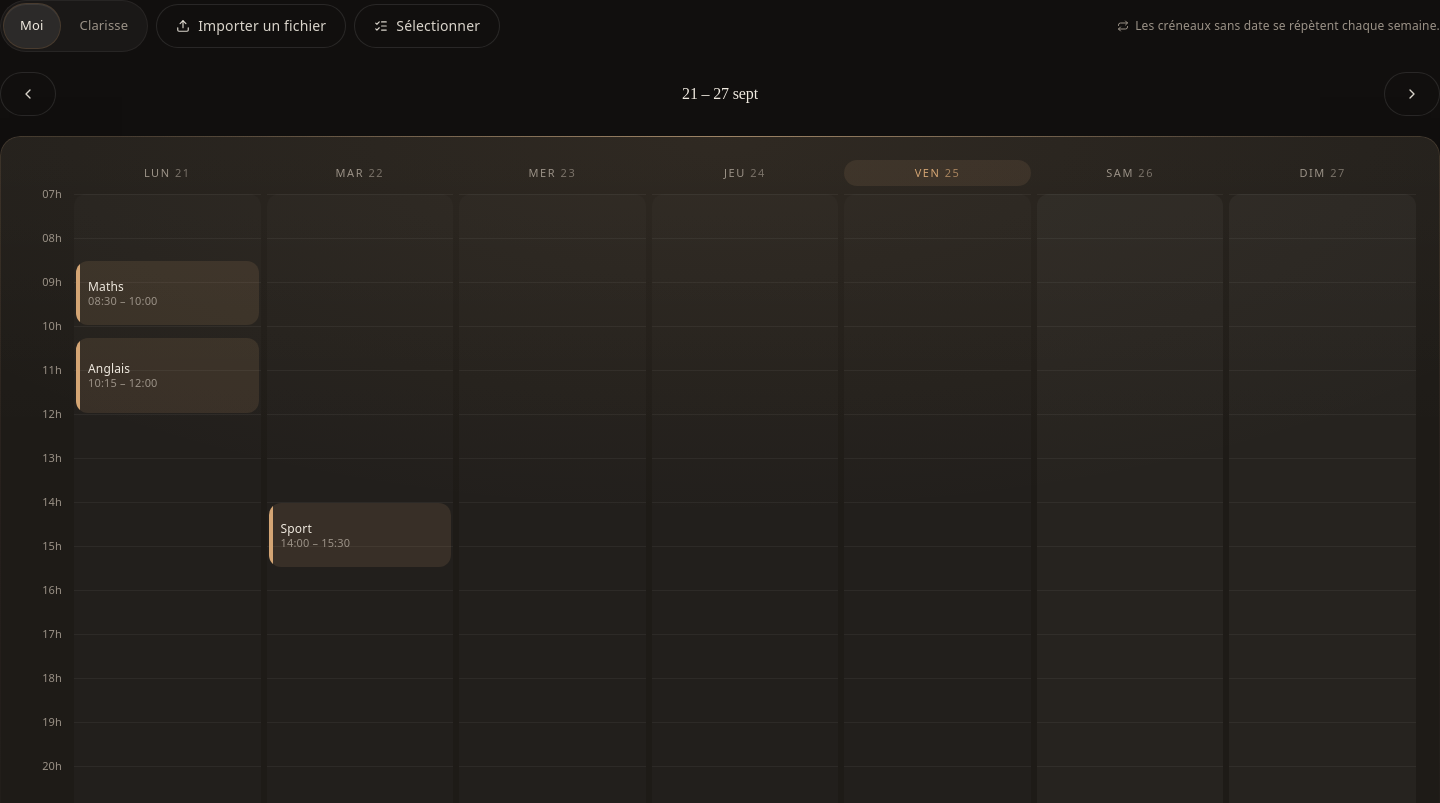
it: Emploi du temps — mode sélection et suppression multiple › décoche le jour entier au second geste
The width and height of the screenshot is (1440, 803).
Click the button "Sélectionner" at (427,26), box [354, 4, 500, 48]
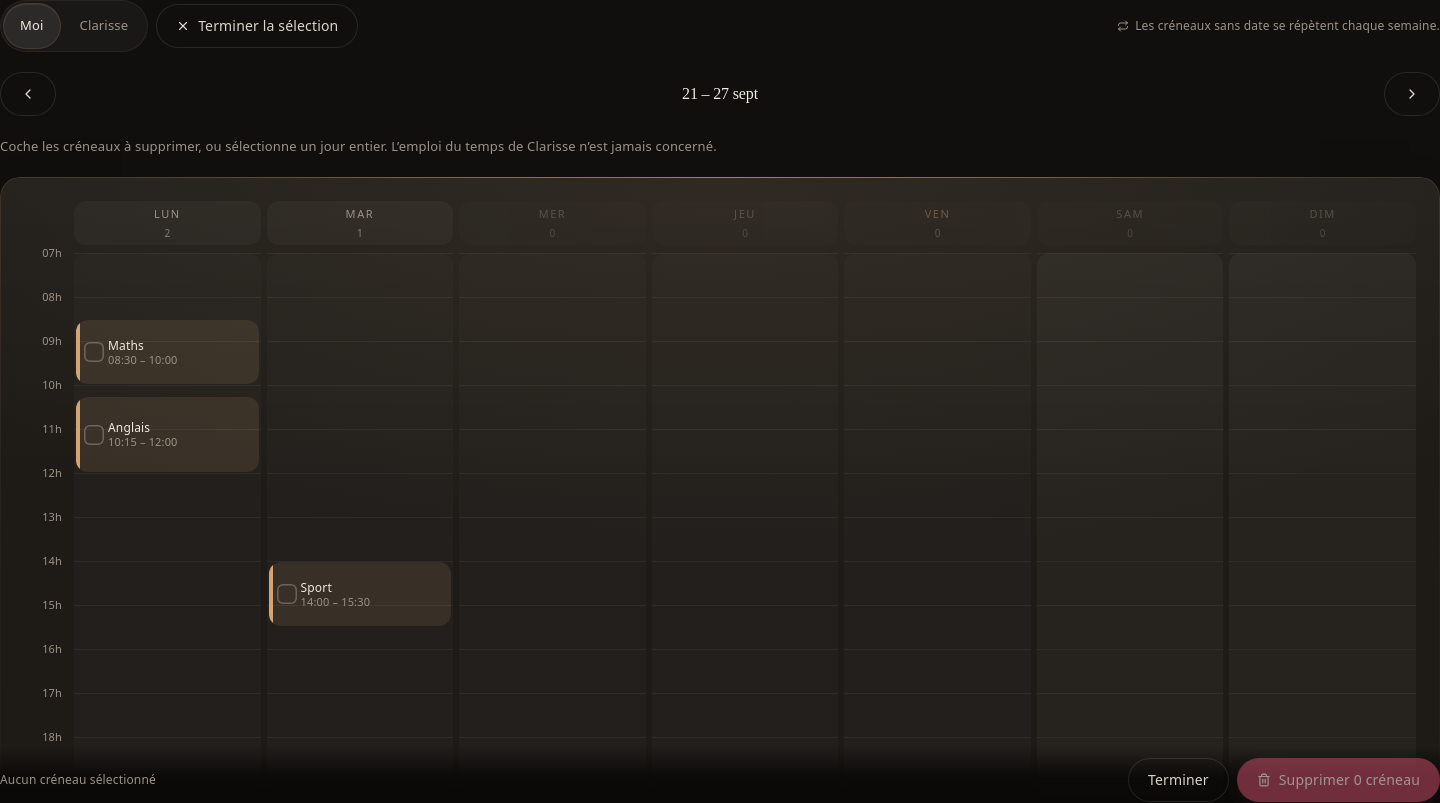
Click the button with aria-label "Tout sélectionner sur lundi" at (167,223), box [74, 201, 261, 245]
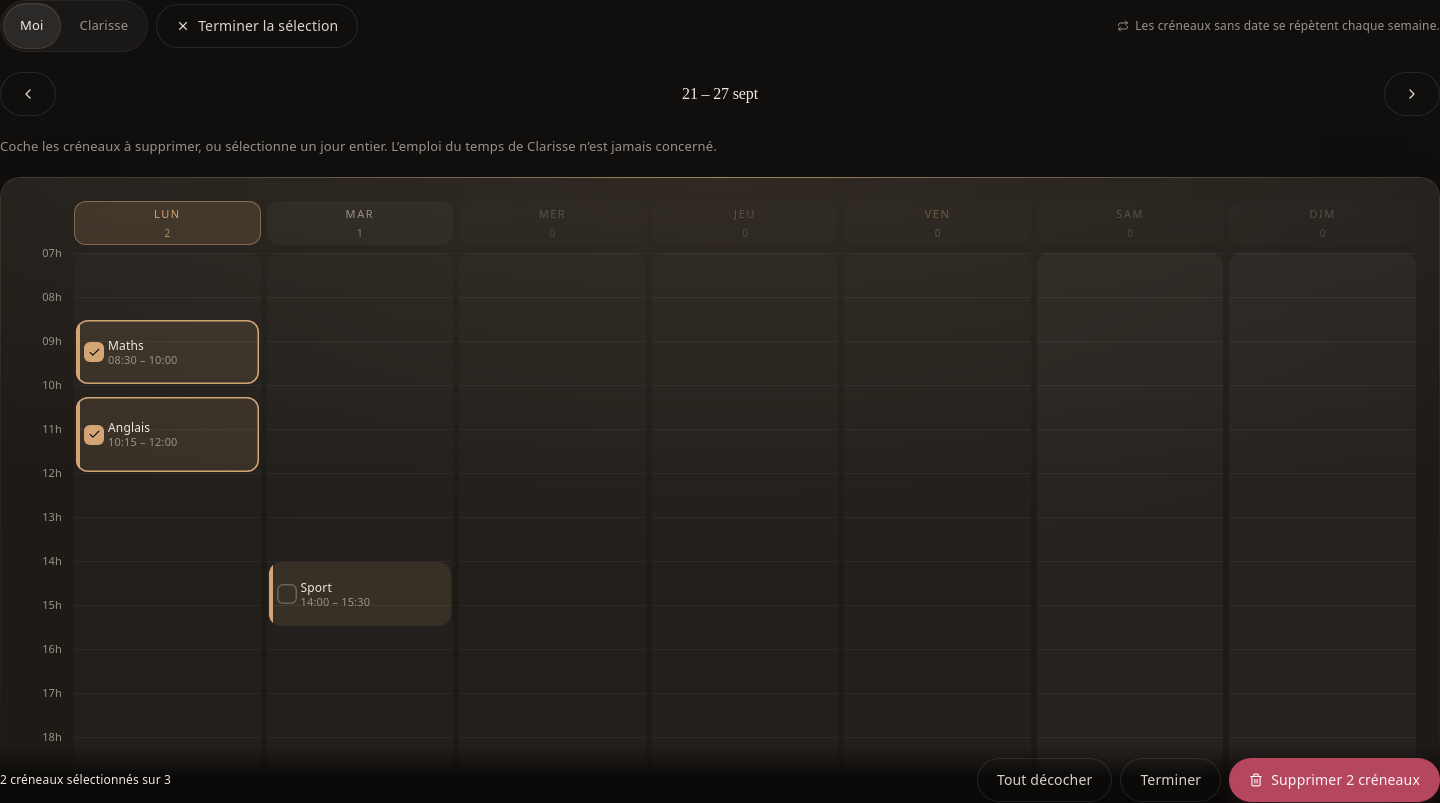
Check: the text "2 créneaux sélectionnés sur 3" is shown, box [0, 771, 171, 788]
Click the button with aria-label "Tout désélectionner sur lundi" at (167,223), box [74, 201, 261, 245]
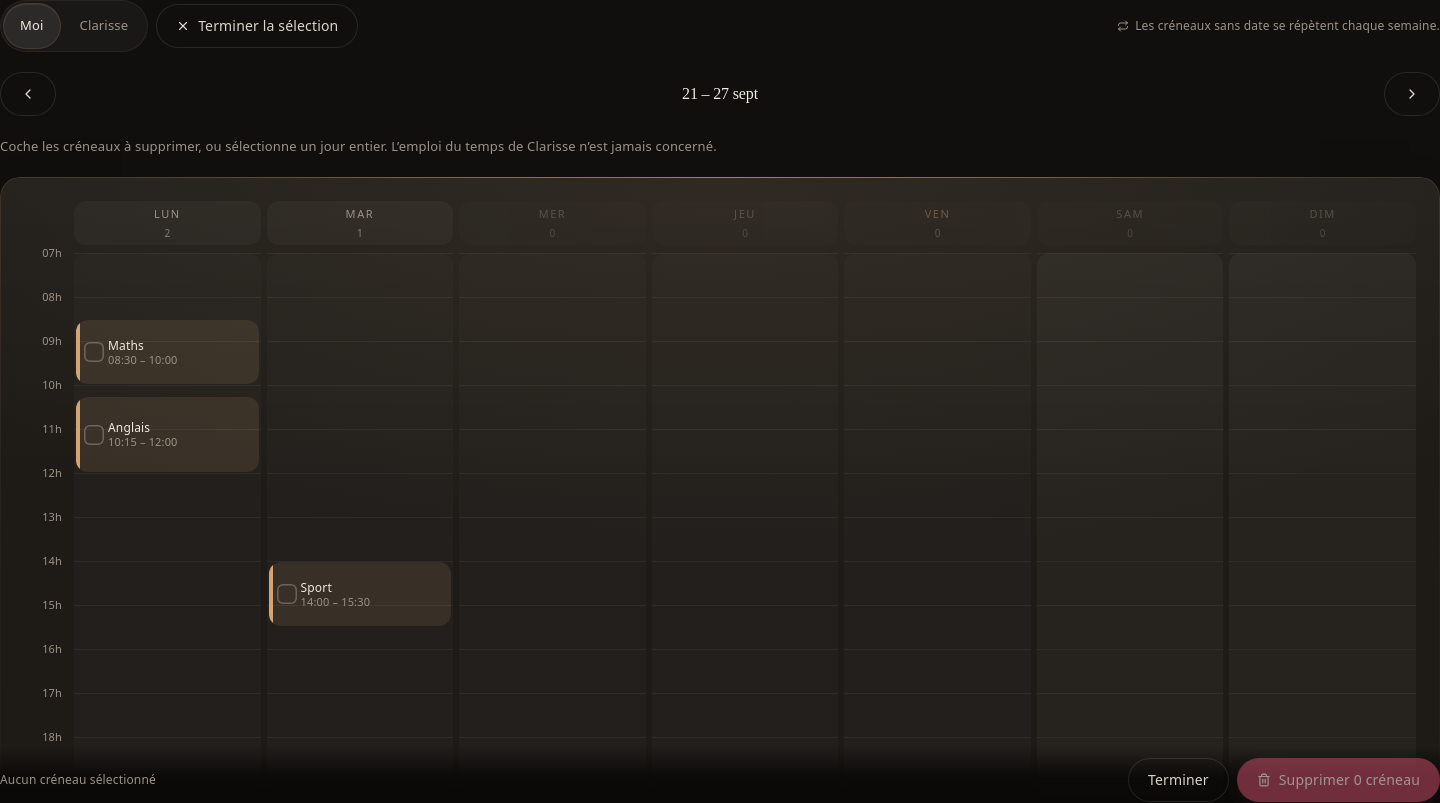
Check: the text "Aucun créneau sélectionné" is shown, box [0, 771, 156, 788]
